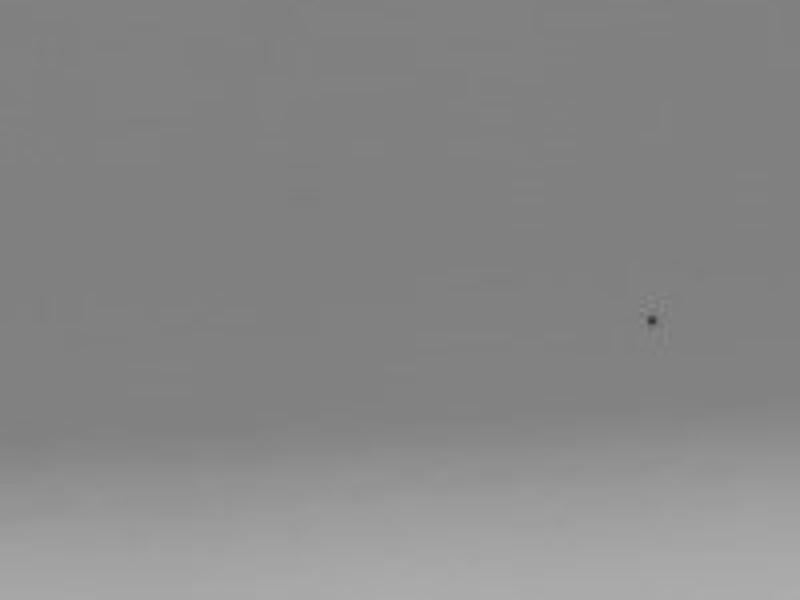defect: (644, 312, 660, 328)
